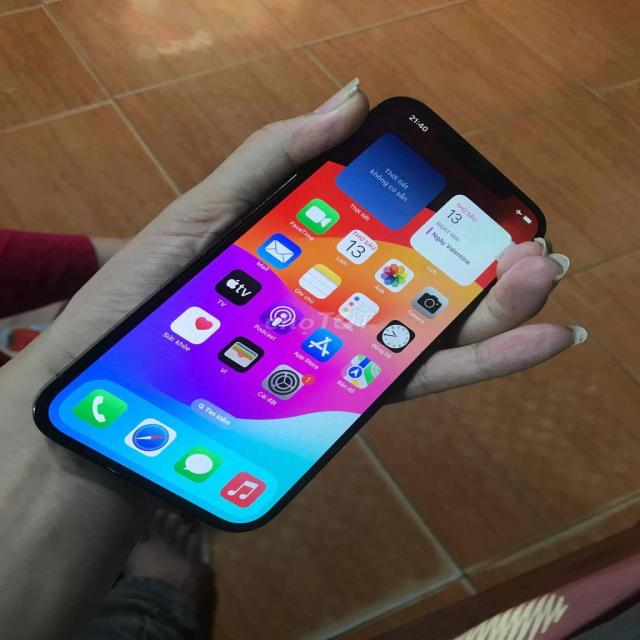gen_12_13: (34, 93, 554, 536)
